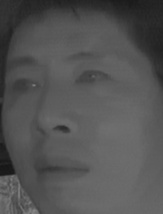eye: (74, 65, 110, 88), (9, 75, 42, 96)
mouth: (29, 150, 91, 186)
